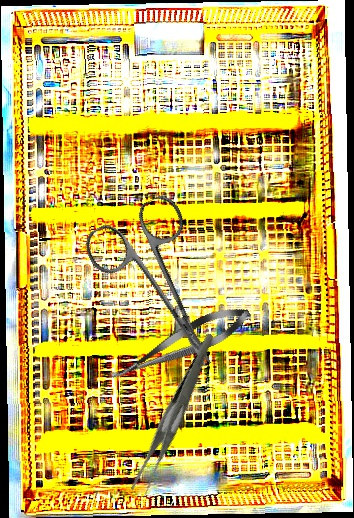Dressing Forceps: (94, 332, 257, 500)
Iris Scissors: (78, 190, 250, 391)
Micro Scissor: (102, 297, 256, 392)
